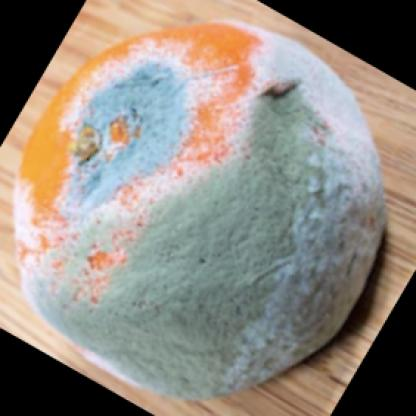rotten: (15, 25, 388, 401)
